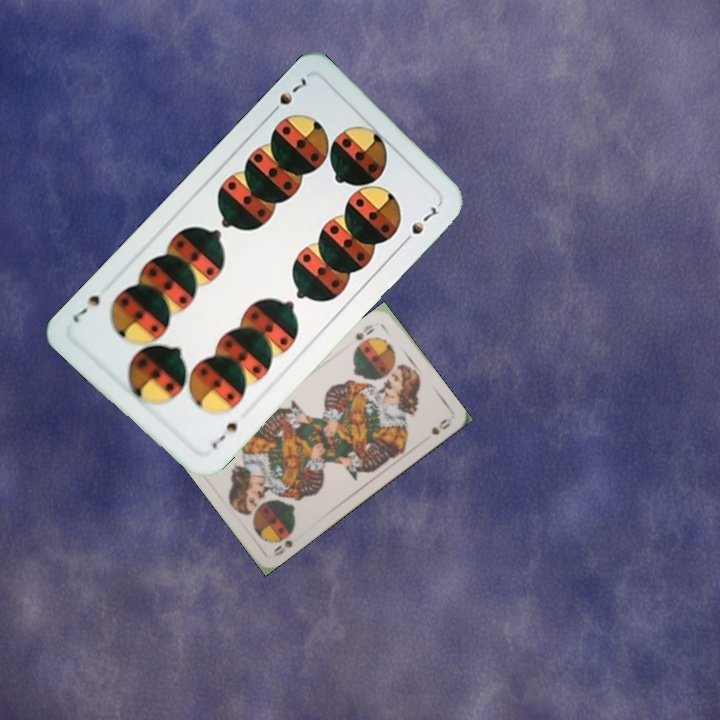S7: (265, 72, 309, 119), (207, 418, 240, 451)
SO: (270, 524, 298, 559), (351, 320, 377, 343)
